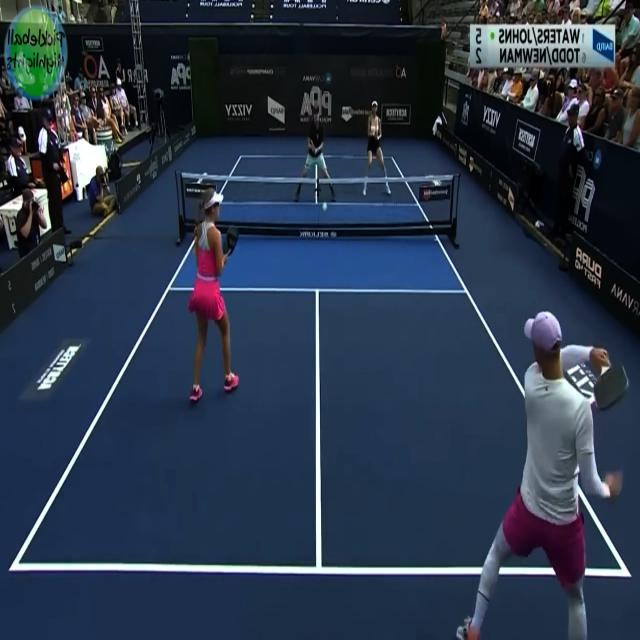Pickleball: (322, 200, 328, 213)
